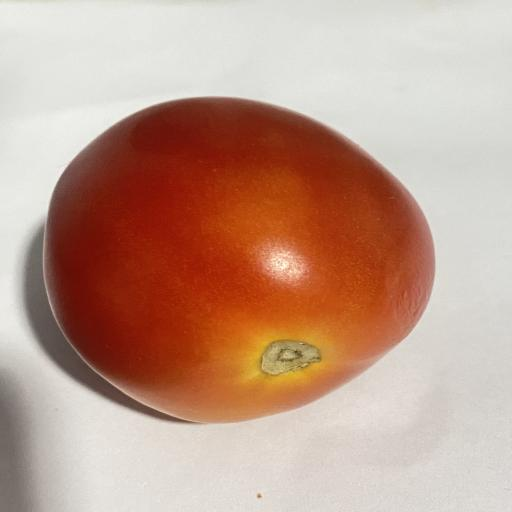ripe: (44, 97, 434, 423)
